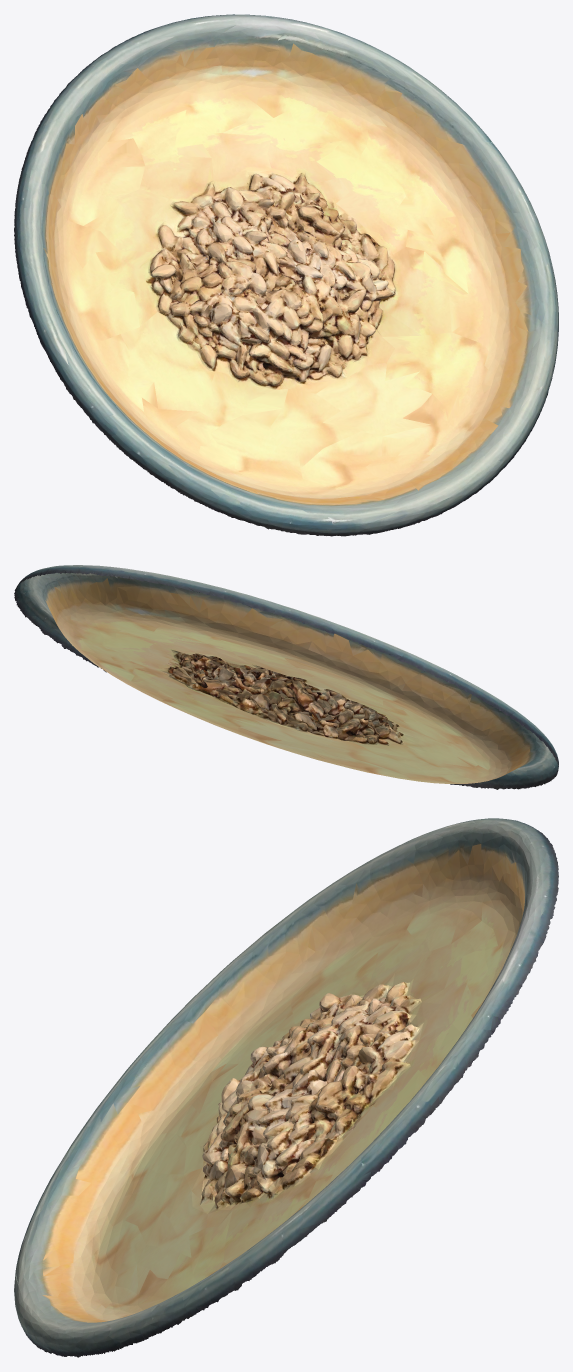
The model's file is Sonnenblumenkerne.fbx.
3 renders of one model, top to bottom at view 1: azimuth 30°, elevation 25°; view 2: azimuth 150°, elevation 25°; view 3: azimuth 270°, elevation 25°, orthographic. The views are drawn at different scales.
Visible parts, largest first — view 1: Sonnenblumenkerne_tex_high; view 2: Sonnenblumenkerne_tex_high; view 3: Sonnenblumenkerne_tex_high.
Boxes of the visible parts, x1=… form: Sonnenblumenkerne_tex_high: x1=14, y1=14, x2=558, y2=536; Sonnenblumenkerne_tex_high: x1=14, y1=565, x2=558, y2=789; Sonnenblumenkerne_tex_high: x1=14, y1=818, x2=558, y2=1357.
Size of the model in its own units: 19.8 by 13.25 by 14.99.
